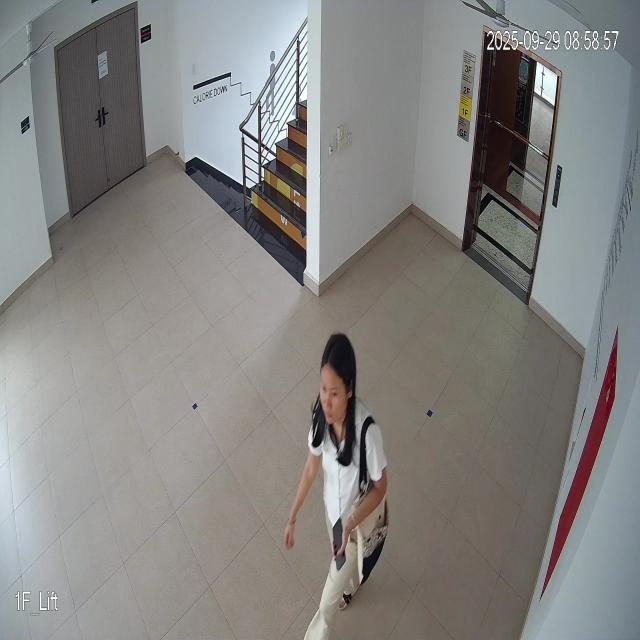face: (312, 326, 358, 431)
